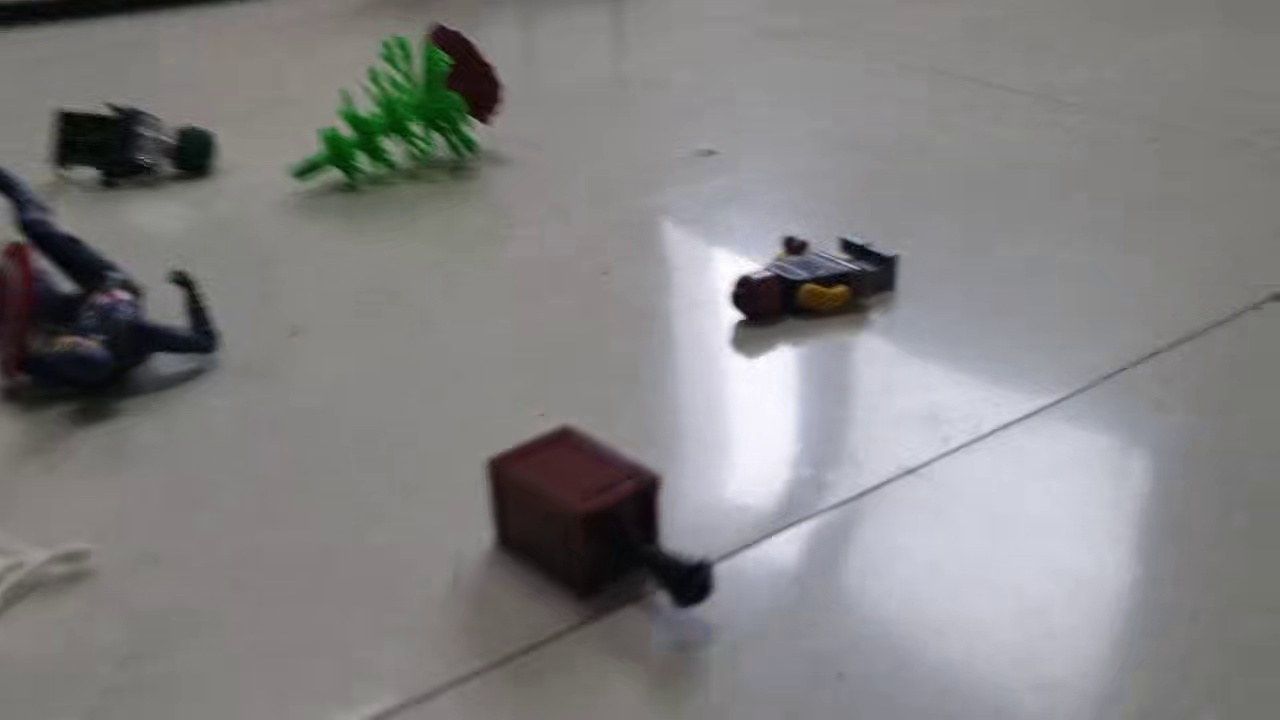box: (482, 422, 716, 629)
people: (1, 165, 224, 415), (728, 227, 906, 330), (43, 102, 228, 201)
tree: (281, 16, 506, 191)
